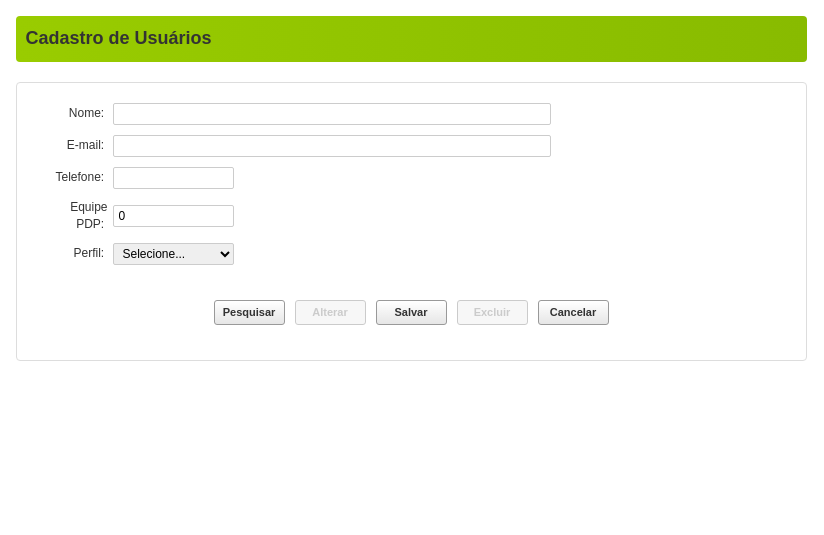
Test: UserRegistry Component › Pesquisa de Usuários › deve habilitar botões Alterar e Excluir após pesquisa com resultados
The width and height of the screenshot is (824, 535).
Click the button "Pesquisar".
click(249, 312)  # box left=214, top=300, right=284, bottom=325
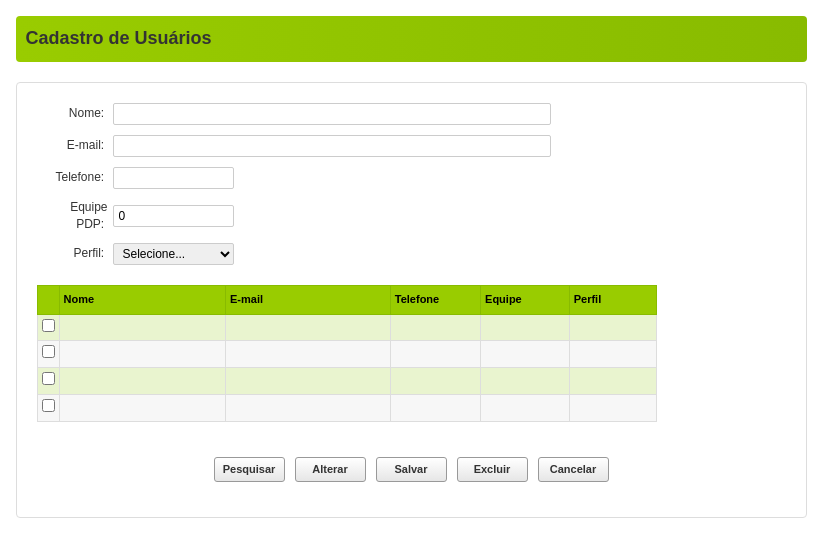
Result: the button "Alterar" is enabled at left=294, top=456, right=366, bottom=482
Result: the button "Excluir" is enabled at left=456, top=456, right=528, bottom=482
